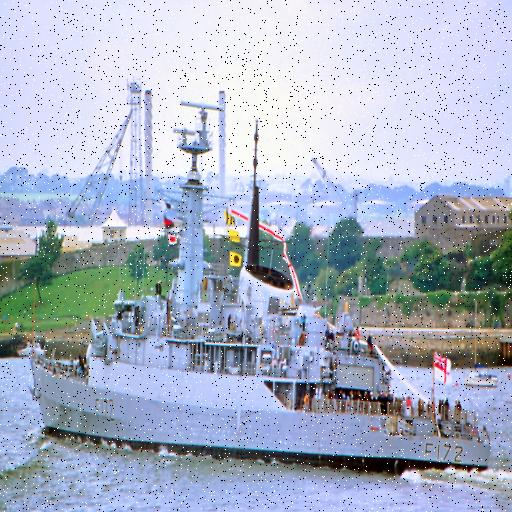Fragata: (28, 86, 497, 480)
